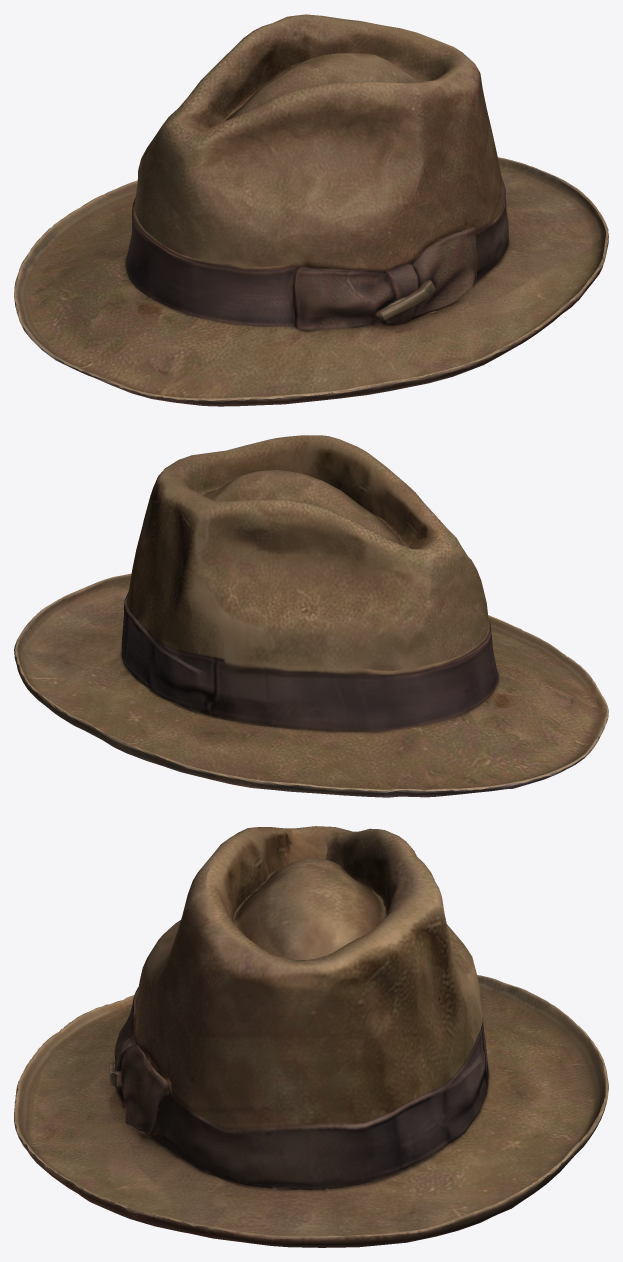
Rendered from hat.glb.
The picture shows the model from 3 angles, top to bottom: view 1: azimuth 30°, elevation 25°; view 2: azimuth 150°, elevation 25°; view 3: azimuth 270°, elevation 25°; orthographic projection. The views are drawn at different scales.
Parts seen in each view (by area): view 1: Object_4; view 2: Object_4; view 3: Object_4.
Boxes of the visible parts, x1,y1,x2,y2 form: Object_4: [14, 14, 608, 406]; Object_4: [14, 435, 608, 797]; Object_4: [14, 826, 608, 1247].
Size of the model in its own units: 1.09 by 0.468 by 0.8934.
Materials: 1 (1 with a texture image).
